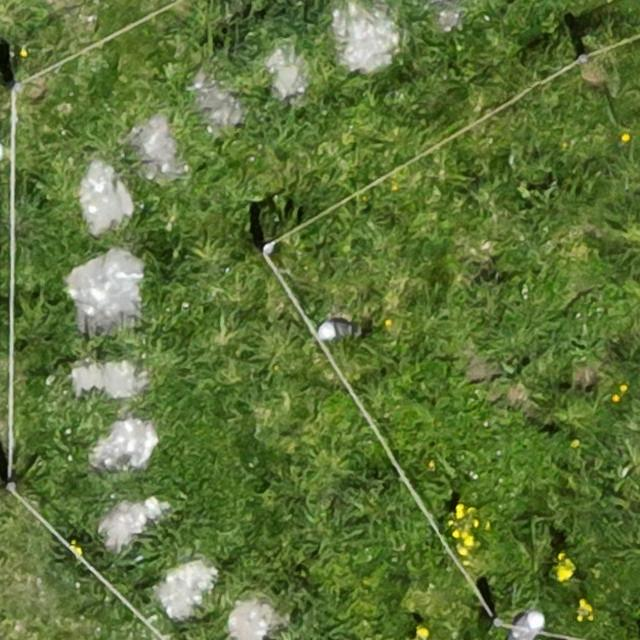umineko: (511, 611, 541, 638), (320, 322, 351, 340)
